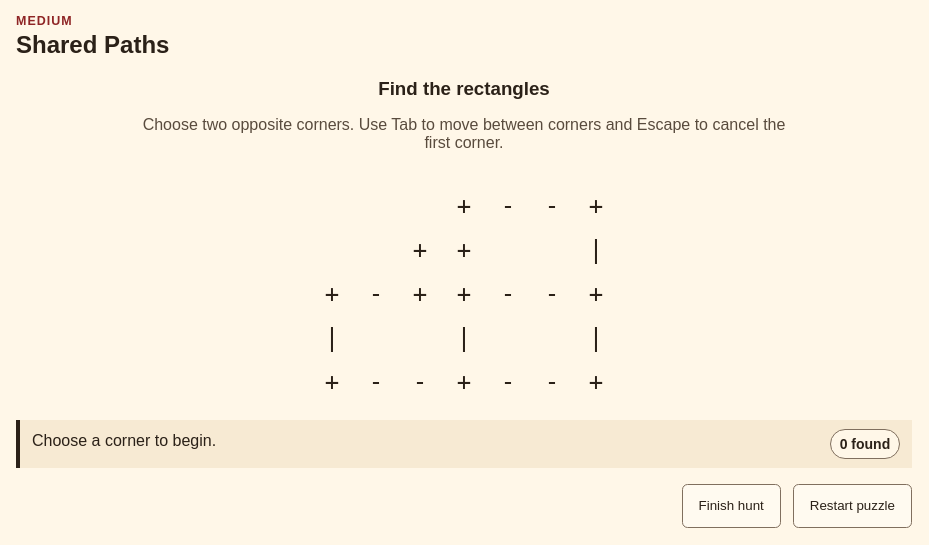
Test case: Rectangle Hunt game loop › reports an invalid pair without changing progress
The image size is (929, 545).
Click the button named "Corner at row 1, column 4" at (464, 206), box left=442, top=184, right=486, bottom=228
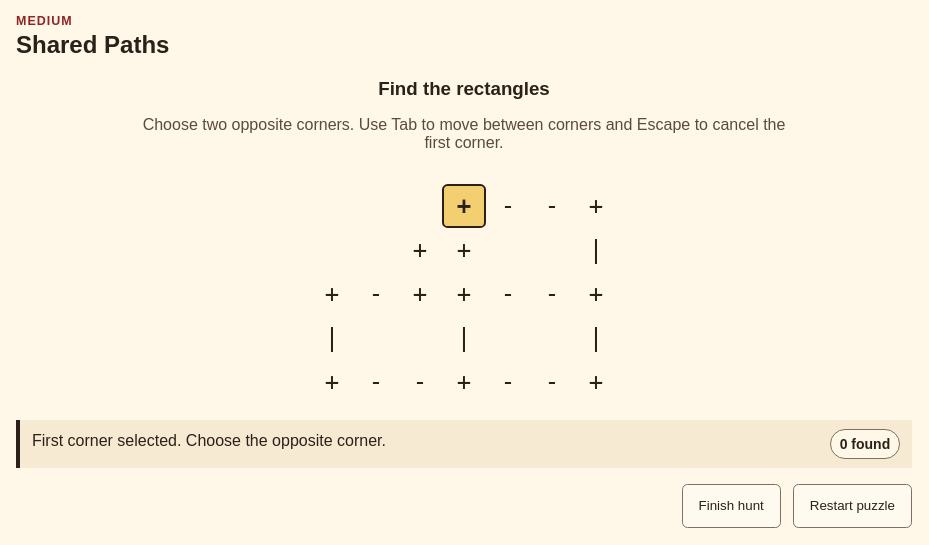
Click the button named "Corner at row 1, column 7" at (596, 206), box left=574, top=184, right=618, bottom=228
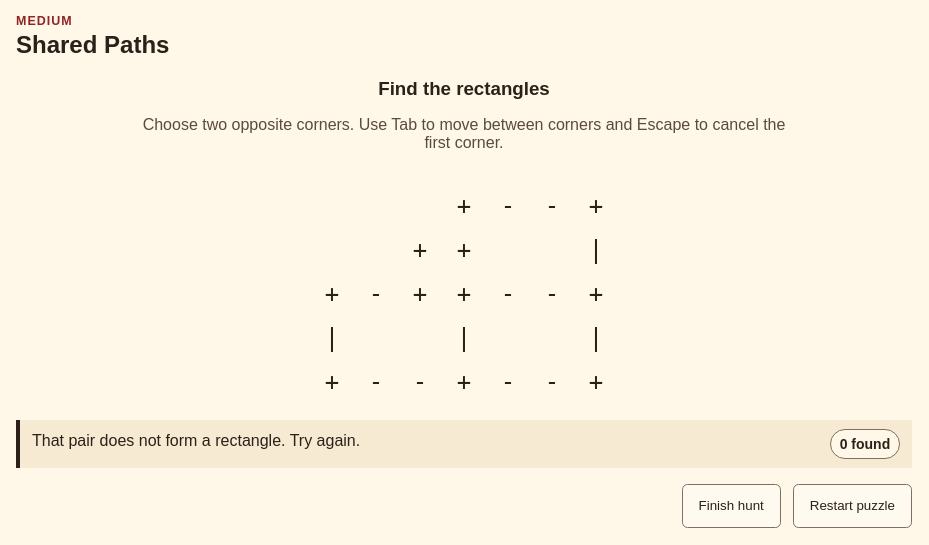
Expected: the text named "0 rectangles found" reads "0 found", left=830, top=429, right=900, bottom=458
Result: the message named "Game status" reads "That pair does not form a rectangle. Try again." at left=32, top=432, right=360, bottom=449
